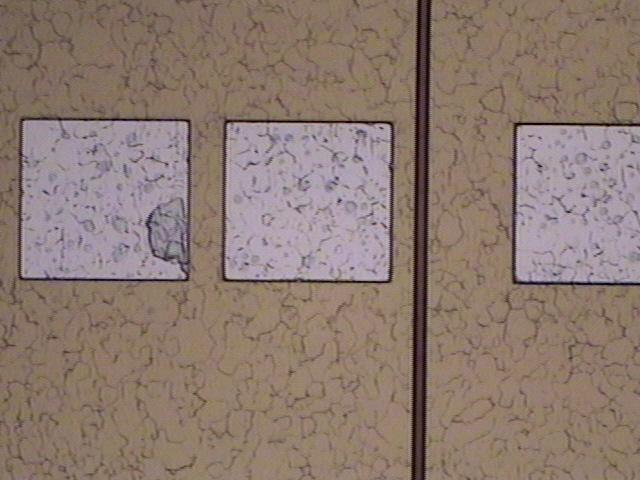PO CONTAMINATION: (140, 192, 193, 280)
